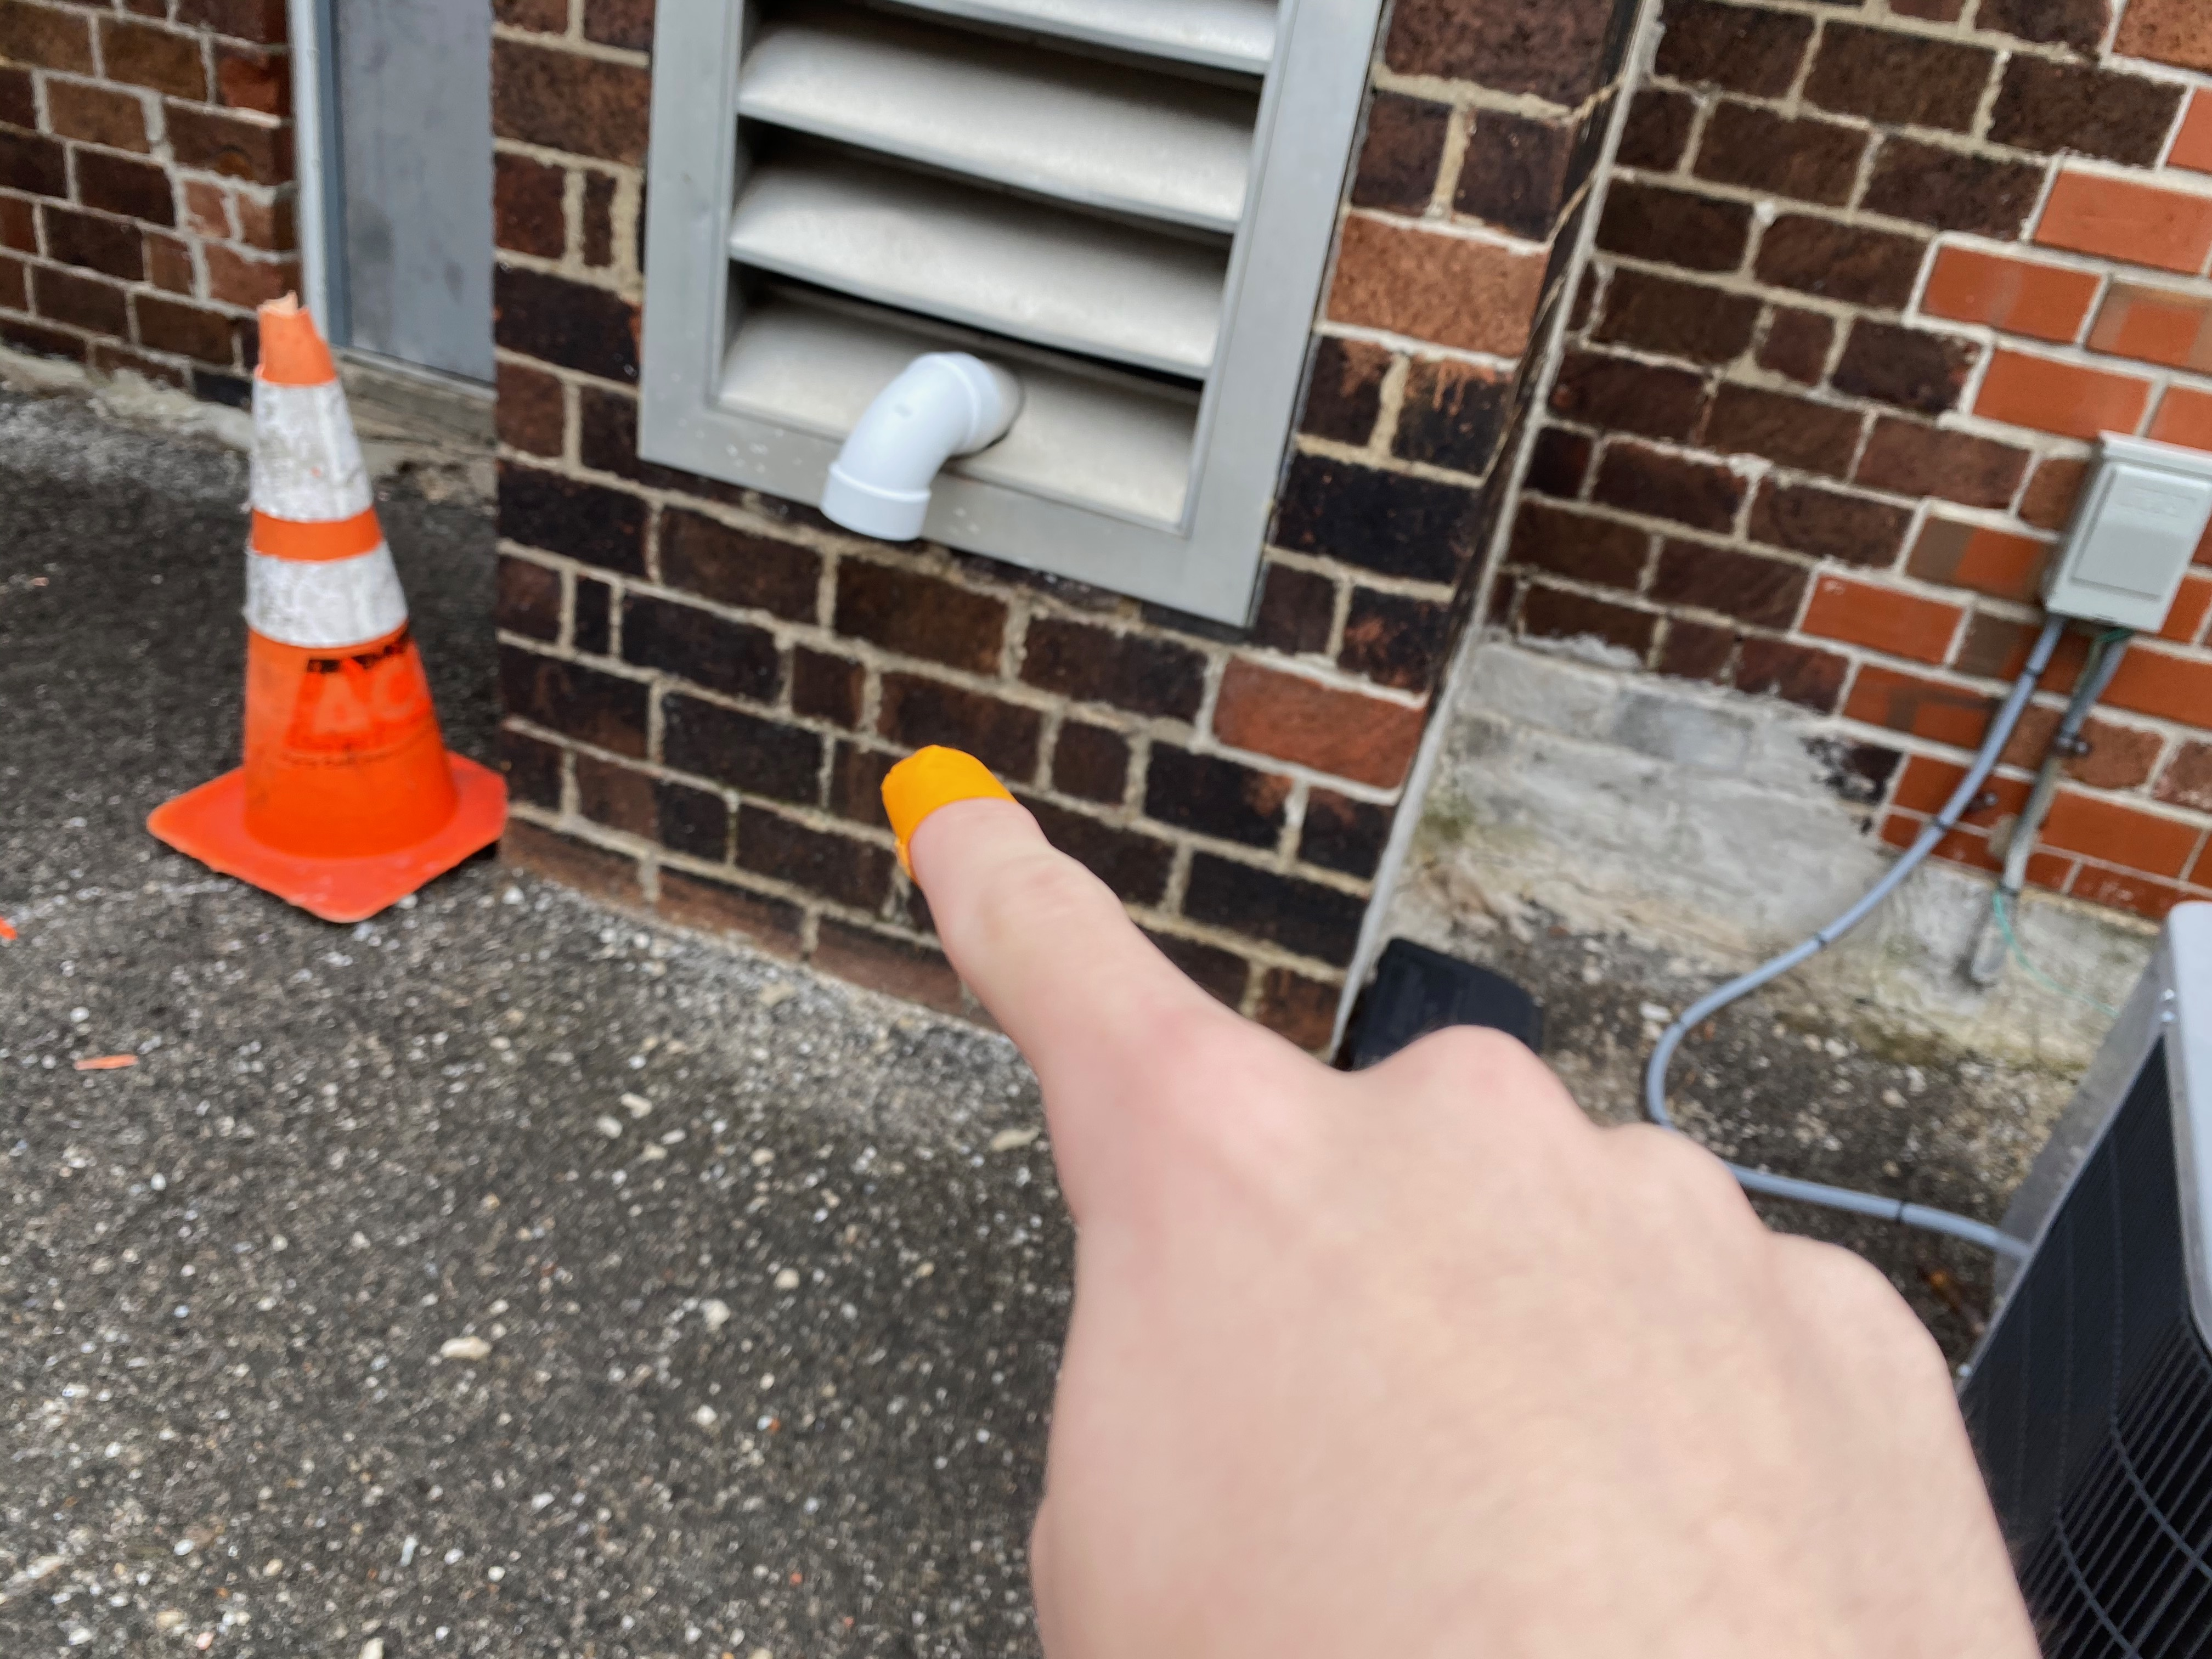fingertip: (860, 739, 1031, 866)
